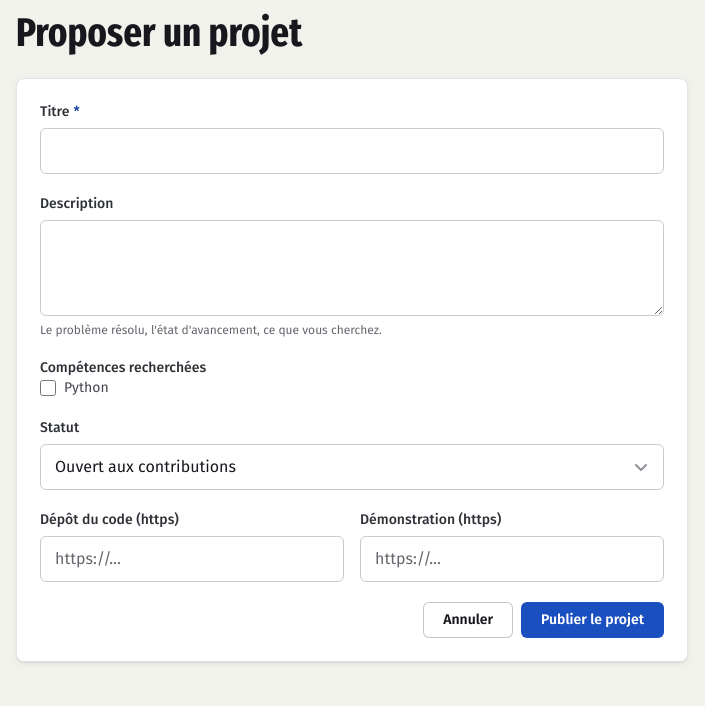
it: formulaire de projet › affiche une erreur de validation du serveur
Type "Agri-Data" into the field labelled "Titre*" at (352, 151), box [40,128,664,174]
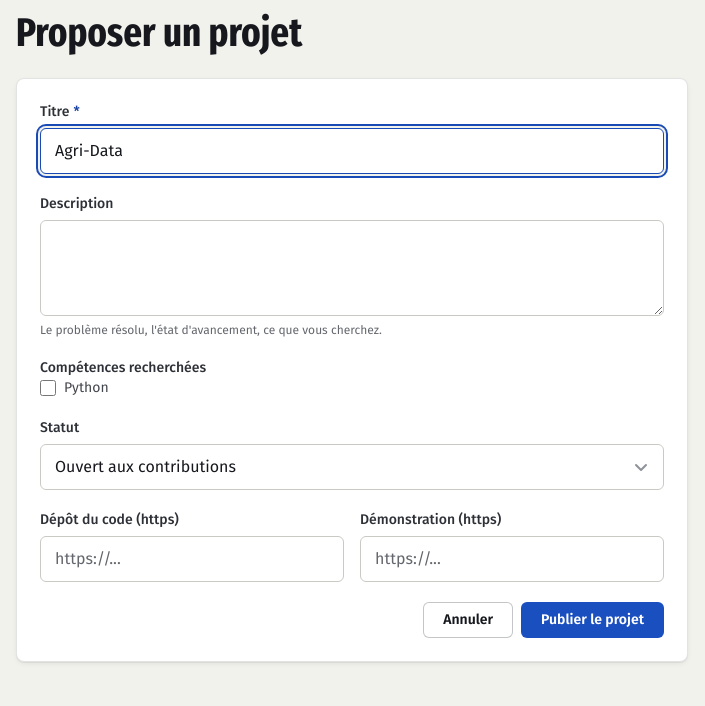
Click the button "Publier le projet" at (592, 620), box [521,602,664,638]
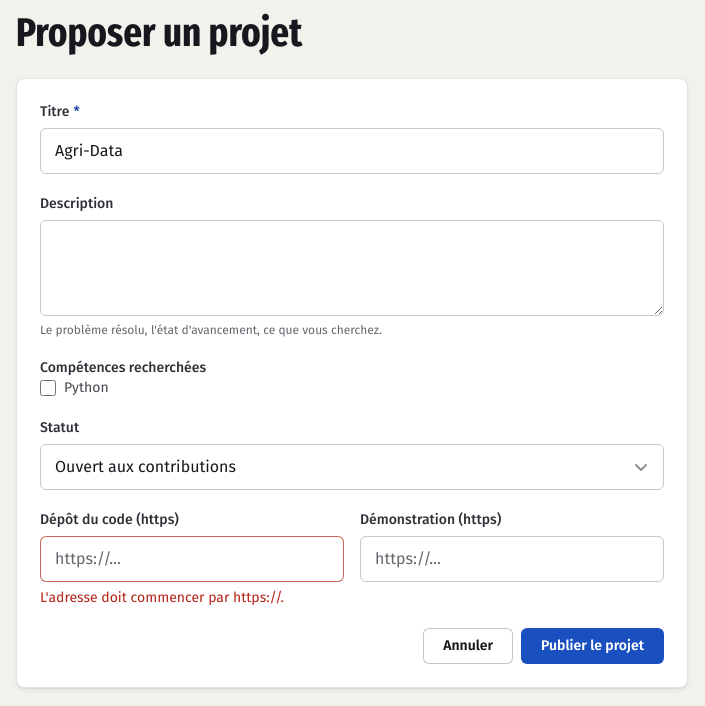
Now the text "L'adresse doit commencer par https://." is shown, box [40,589,284,606]
